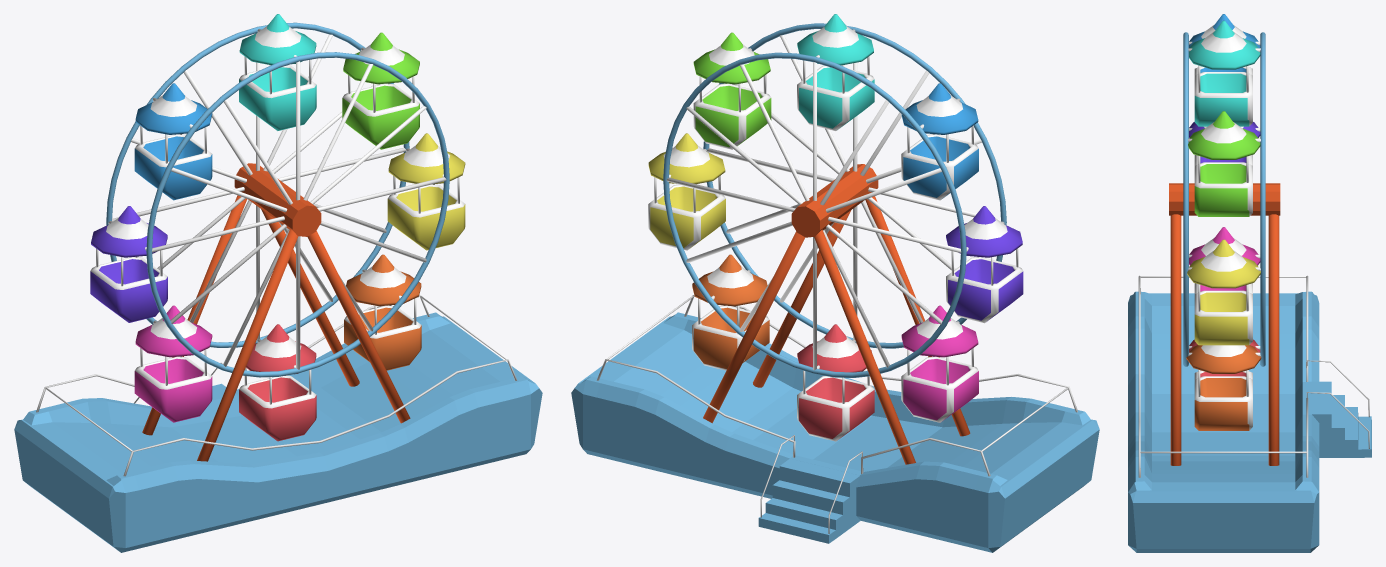
Rendered from Ferris_wheel.fbx.
3 views of the same model, side by side, from view 1: azimuth 30°, elevation 25°; view 2: azimuth 150°, elevation 25°; view 3: azimuth 270°, elevation 25° (orthographic). The views are drawn at different scales.
Parts seen in each view (by area): view 1: Cube.008, Torus.002, Cylinder.052, Cylinder.036, Cylinder.011, Cylinder.021, Cylinder.006, Cylinder.031, Cylinder.016, Cylinder.026, Cylinder.041, Cylinder.059; view 2: Cube.008, Torus.002, Cylinder.052, Cylinder.036, Cube.009, Cylinder.011, Cylinder.021, Cylinder.031, Cylinder.006, Cylinder.016, Cylinder.026, Cylinder.041 (+1 smaller); view 3: Cube.008, Cylinder.052, Cylinder.006, Cylinder.026, Cylinder.016, Cylinder.041, Torus.002, Cube.009, Cylinder.036, Cylinder.031, Cylinder.059, Cylinder.011 (+3 smaller).
Boxes of the visible parts, x1,y1,x2,y2 form: Cube.008: (14, 312, 542, 552); Torus.002: (106, 22, 449, 377); Cylinder.052: (142, 163, 410, 461); Cylinder.036: (134, 305, 212, 422); Cylinder.011: (90, 206, 167, 322); Cylinder.021: (239, 324, 316, 441); Cylinder.006: (387, 133, 465, 250); Cylinder.031: (134, 83, 212, 200); Cylinder.016: (239, 14, 316, 130); Cylinder.026: (342, 32, 419, 149); Cylinder.041: (344, 254, 421, 370); Cylinder.059: (123, 359, 517, 476); Cube.008: (571, 312, 1099, 552); Torus.002: (663, 23, 1006, 377); Cylinder.052: (703, 164, 970, 464); Cylinder.036: (901, 305, 978, 422); Cube.009: (758, 458, 860, 543); Cylinder.011: (946, 206, 1023, 323); Cylinder.021: (797, 324, 874, 441); Cylinder.031: (901, 83, 978, 200); Cylinder.006: (648, 133, 725, 250); Cylinder.016: (797, 14, 874, 130); Cylinder.026: (693, 32, 771, 149); Cylinder.041: (692, 254, 769, 370); Cube.008: (1128, 291, 1319, 552); Cylinder.052: (1169, 183, 1280, 465); Cylinder.006: (1187, 239, 1260, 345); Cylinder.026: (1188, 111, 1260, 216); Cylinder.016: (1188, 20, 1260, 126); Cylinder.041: (1186, 345, 1261, 430); Torus.002: (1183, 32, 1265, 366); Cube.009: (1311, 381, 1371, 457); Cylinder.036: (1189, 227, 1260, 293); Cylinder.031: (1189, 14, 1260, 75); Cylinder.059: (1138, 275, 1140, 477); Cylinder.011: (1189, 122, 1260, 165).
Size of the model in its own units: 2001 by 2014 by 1017.
